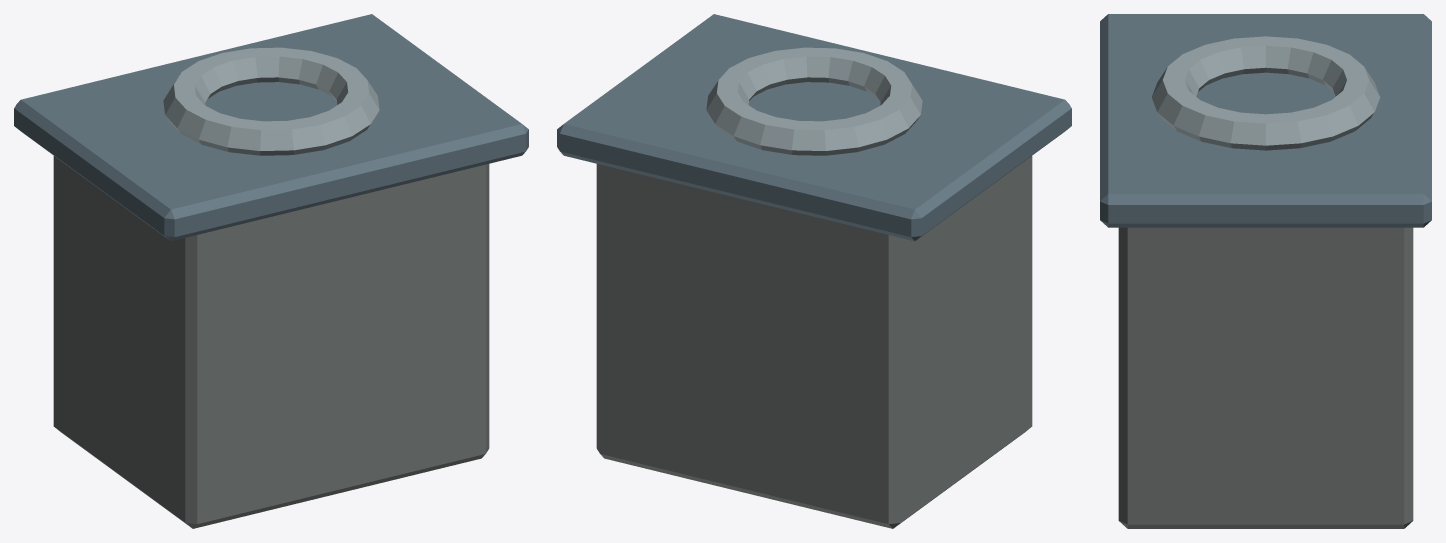
The model's file is objects-sink.lod0.glb.
3 views of the same model, side by side, from view 1: azimuth 30°, elevation 25°; view 2: azimuth 150°, elevation 25°; view 3: azimuth 270°, elevation 25° (orthographic). The views are drawn at different scales.
Parts seen in each view (by area): view 1: objects-sink__body; view 2: objects-sink__body; view 3: objects-sink__body.
Part boxes in pixels (x1,y1,x2,y2): objects-sink__body: (14,14,528,528); objects-sink__body: (557,14,1071,528); objects-sink__body: (1100,14,1431,528).
Bounding box in the file's own units: 1.2 × 1.12 × 0.9.
